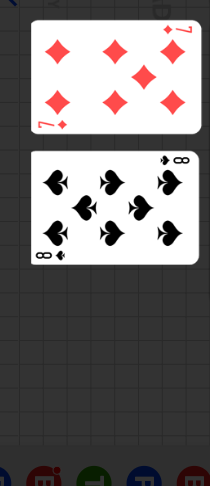10S: (34, 248, 68, 261)
7D: (36, 118, 68, 131)
